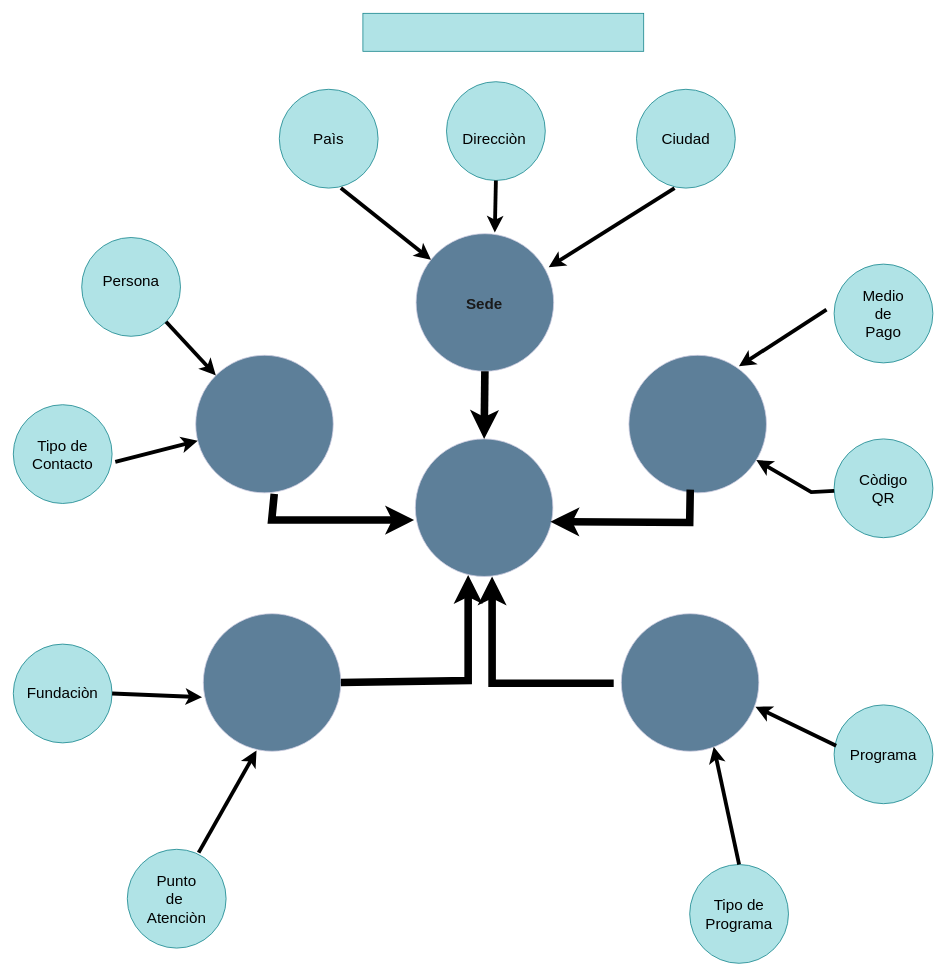
Some shapes in this 946 by 977 pixel diagram are drawn without their labels. Here are the shapes that lost their labels. From the top down, the box of each, then its label:
(362, 13, 644, 51): Fundaión Germen de Paz Digrama de Entidades Significativas
(195, 355, 333, 493): Donante
(628, 355, 766, 493): Canal de pago
(415, 438, 553, 576): Donación Transacción
(203, 613, 341, 751): Organización
(621, 613, 759, 751): Programa social
